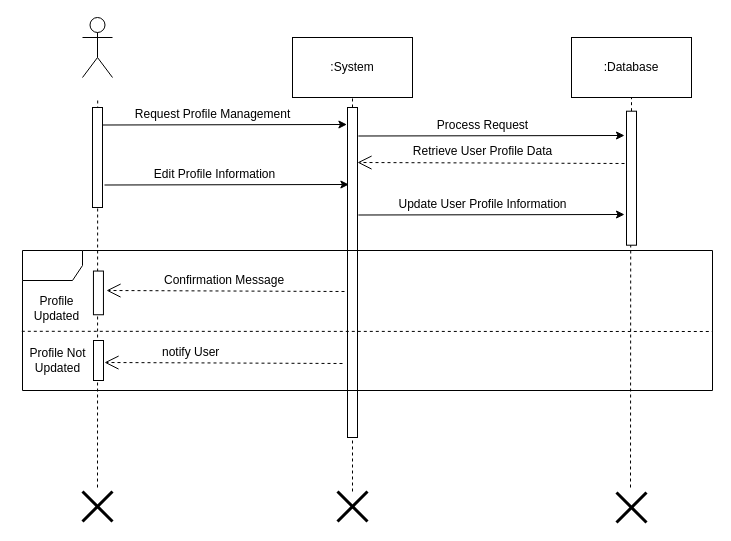
The diagram is 731 pixels wide and 541 high, and some of its shapes have lost their labels. Each missing label, with the box of its shape:
Alt: (22, 250, 712, 390)
User: (82, 16, 112, 78)
